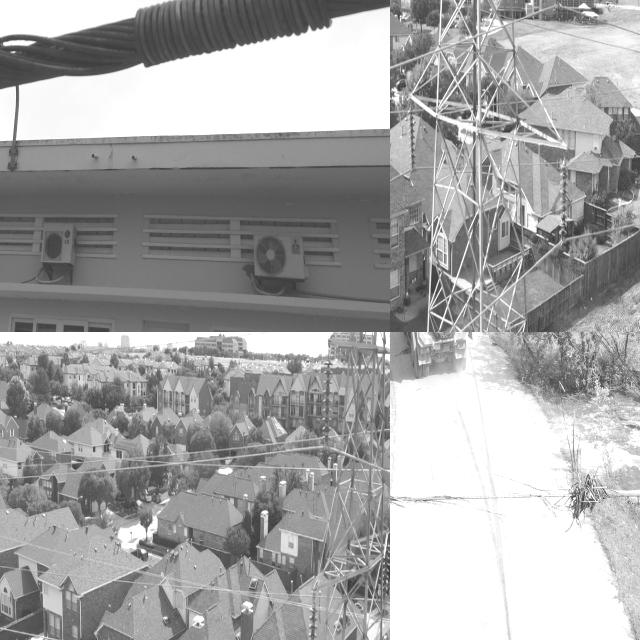杆塔: (401, 0, 569, 332), (305, 332, 390, 640)
正常绝缘子: (317, 352, 340, 475), (552, 143, 572, 267), (402, 100, 419, 168), (304, 588, 319, 640), (381, 537, 390, 620), (386, 342, 390, 441)
电缆破损: (0, 0, 385, 112), (390, 368, 626, 539)
